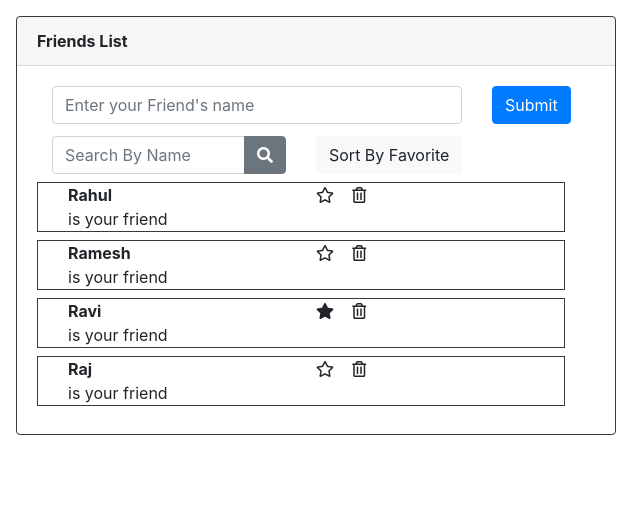
App test › showing notification on search button click
Step 1. Type "ABC" into the field with id "searchName" → (148, 155), box x1=52 y1=136 x2=245 y2=174
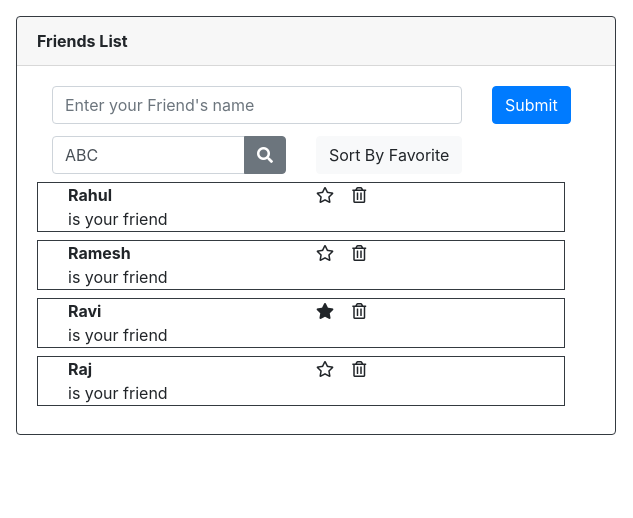
Step 2. Click the button with id "searchNameClick" → (265, 155), box x1=244 y1=136 x2=286 y2=174
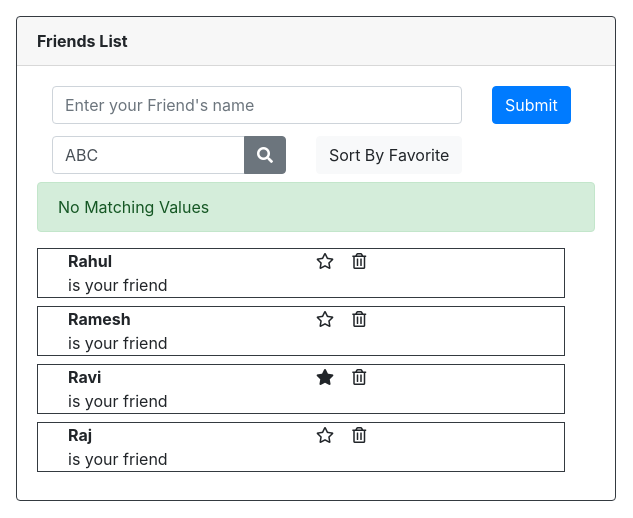
expect the text "No Matching Values" is shown: met, box x1=58 y1=197 x2=209 y2=217
